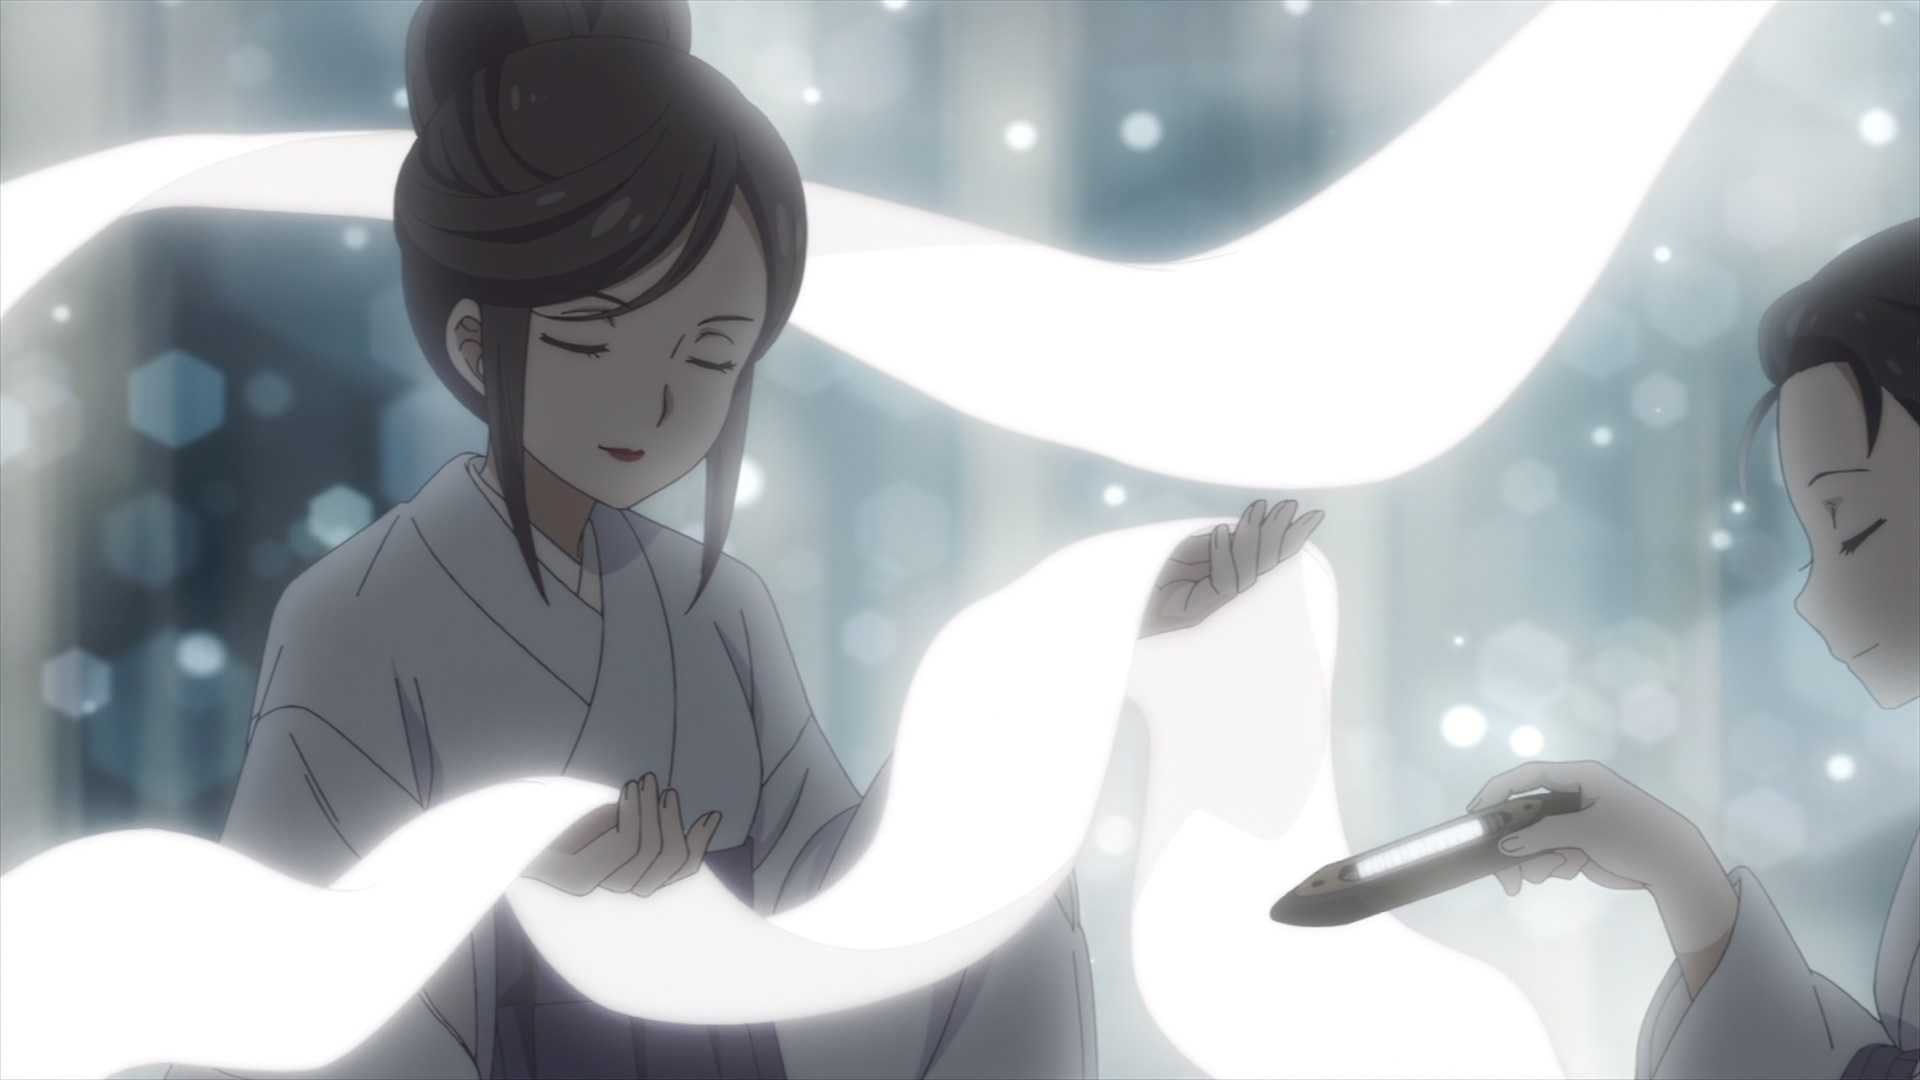其他: (167, 1, 1327, 1080), (1464, 219, 1920, 1080)
